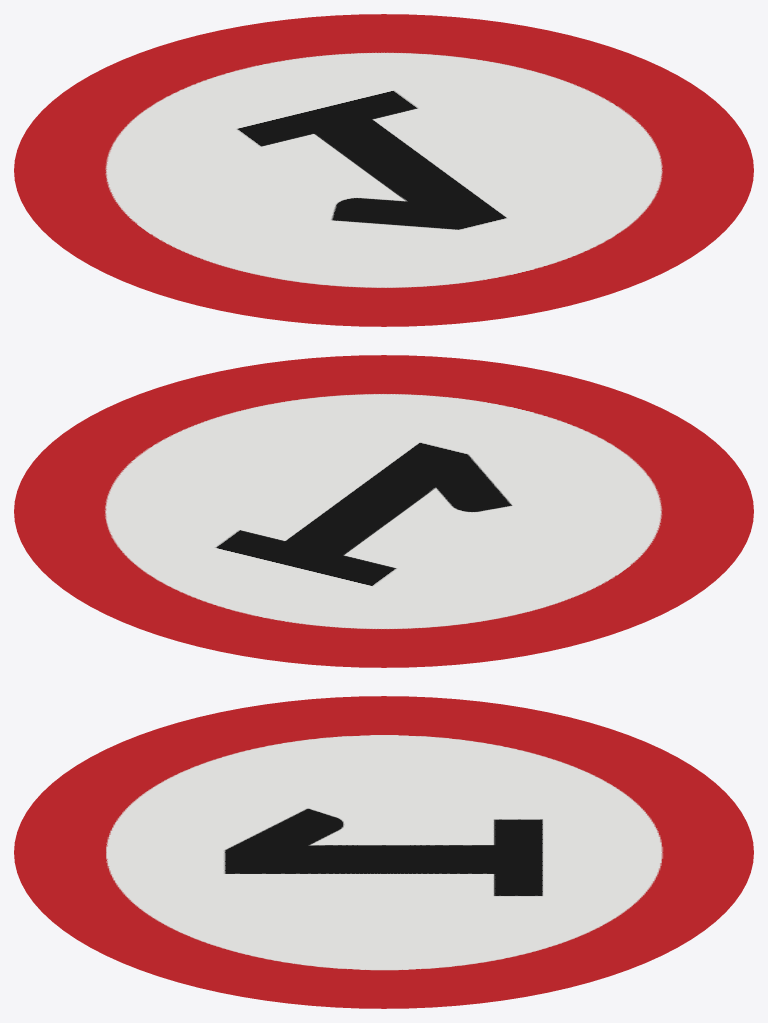
File: stage_01.obj
The picture shows the model from 3 angles, top to bottom: view 1: azimuth 30°, elevation 25°; view 2: azimuth 150°, elevation 25°; view 3: azimuth 270°, elevation 25°; orthographic projection.
Visible parts, largest first — view 1: stage_01; view 2: stage_01; view 3: stage_01.
Part boxes in pixels (box(x1,y1,x2,y2)): stage_01: box(14, 14, 753, 326); stage_01: box(14, 355, 753, 667); stage_01: box(14, 696, 753, 1008).
Bounding box in the file's own units: 0.6 × 0 × 0.6.
1 material, 1 textured.
